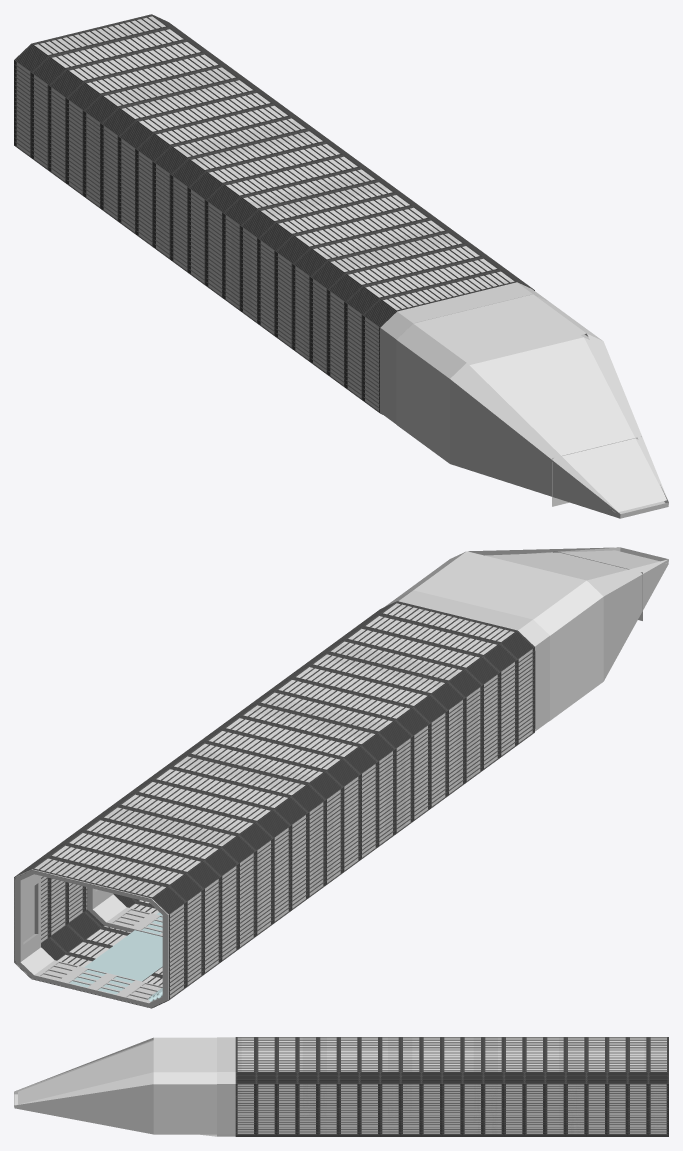
File: hallway-front.fbx
The picture shows the model from 3 angles, top to bottom: view 1: azimuth 30°, elevation 25°; view 2: azimuth 150°, elevation 25°; view 3: azimuth 270°, elevation 25°; orthographic projection. The views are drawn at different scales.
Visible parts, largest first — view 1: Wireframe, Base, Cockpit, Brackets, Window; view 2: Wireframe, Base, Brackets, Cockpit, Floor, Window; view 3: Wireframe, Base, Cockpit, Brackets, Window.
Boxes of the visible parts, x1,y1,x2,y2 form: Wireframe: (14,14,534,414); Base: (16,30,511,412); Cockpit: (396,294,668,518); Brackets: (16,16,548,423); Window: (469,337,666,511); Wireframe: (14,601,535,1008); Base: (14,605,532,1002); Brackets: (15,590,549,1007); Cockpit: (397,547,668,720); Floor: (69,912,162,994); Window: (485,550,659,580); Wireframe: (235,1037,668,1136); Base: (237,1037,666,1133); Cockpit: (14,1037,216,1136); Brackets: (217,1037,666,1136); Window: (18,1041,153,1104).
Size of the model in its own units: 954 by 647 by 5893.
